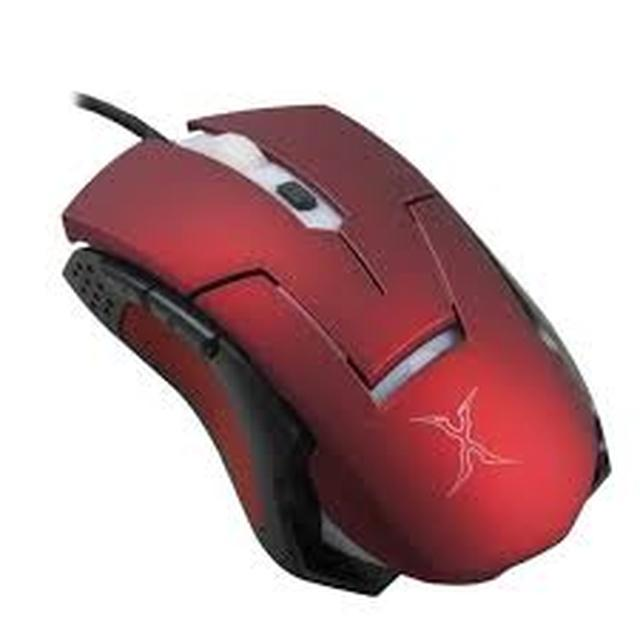mouse: (32, 81, 620, 624)
